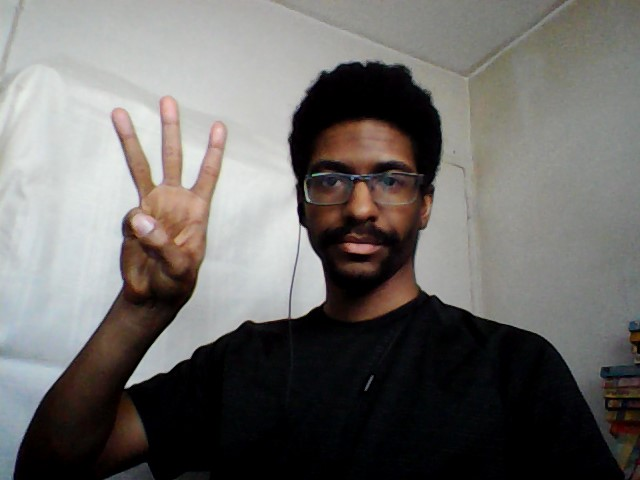w: (105, 91, 233, 304)
